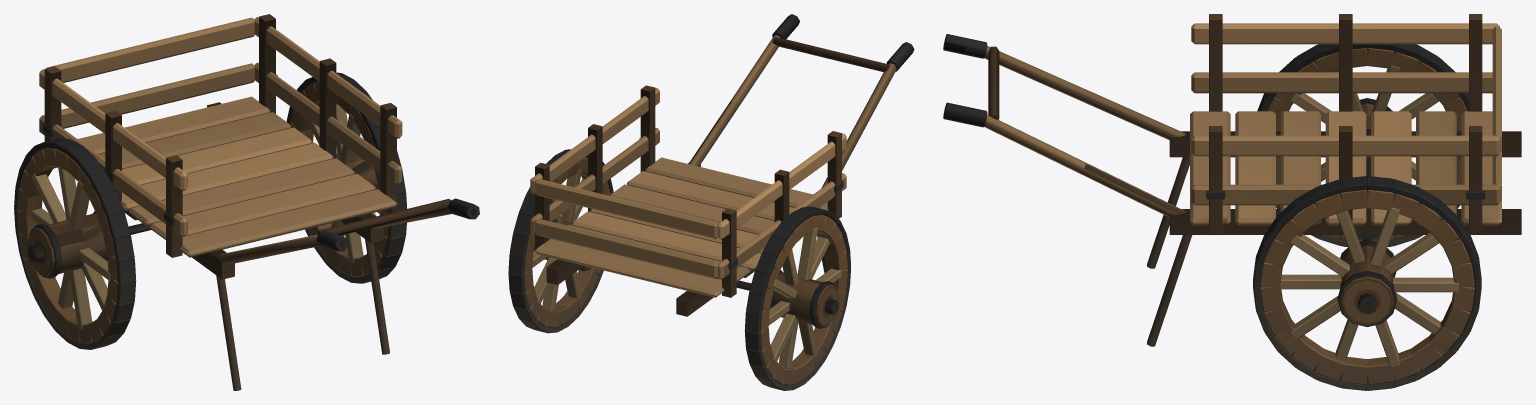
The model's file is hand_cart.glb.
3 renders of one model, left to right at view 1: azimuth 30°, elevation 25°; view 2: azimuth 150°, elevation 25°; view 3: azimuth 270°, elevation 25°, orthographic. The views are drawn at different scales.
Parts seen in each view (by area): view 1: plank-001, wood-wheel-002, wood-001, wood-wheel-003, dark-001; view 2: plank-001, wood-wheel-002, wood-001, wood-wheel-003, dark-001; view 3: plank-001, wood-wheel-003, wood-001, wood-wheel-002, dark-001.
Boxes of the visible parts, bbox=[...] form: plank-001: bbox=[39, 16, 402, 257]; wood-wheel-002: bbox=[14, 138, 136, 349]; wood-001: bbox=[44, 14, 451, 390]; wood-wheel-003: bbox=[286, 72, 406, 283]; dark-001: bbox=[43, 74, 479, 251]; plank-001: bbox=[530, 87, 846, 297]; wood-wheel-002: bbox=[744, 206, 850, 390]; wood-001: bbox=[535, 35, 896, 316]; wood-wheel-003: bbox=[508, 149, 613, 333]; dark-001: bbox=[533, 14, 914, 290]; plank-001: bbox=[1190, 23, 1501, 225]; wood-wheel-003: bbox=[1253, 176, 1481, 390]; wood-001: bbox=[984, 14, 1521, 346]; wood-wheel-002: bbox=[1257, 44, 1468, 246]; dark-001: bbox=[943, 34, 1485, 240].
Bounding box in the file's own units: 1.64 × 1.01 × 2.14.
